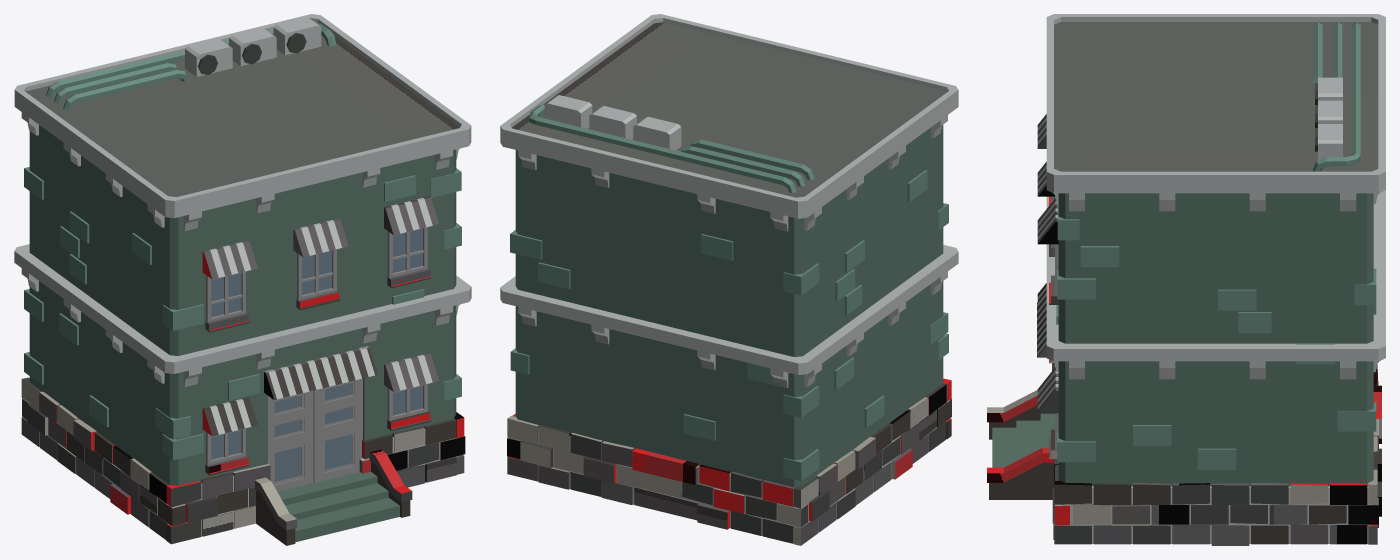
The model's file is quaternius-ultimate-textured-building-2-story-double-mat.glb.
3 views of the same model, side by side, from view 1: azimuth 30°, elevation 25°; view 2: azimuth 150°, elevation 25°; view 3: azimuth 270°, elevation 25° (orthographic). The views are drawn at different scales.
Parts seen in each view (by area): view 1: 2Story_Double_Mat; view 2: 2Story_Double_Mat; view 3: 2Story_Double_Mat.
Part boxes in pixels (box(x1,y1,x2,y2)): 2Story_Double_Mat: box(14, 14, 471, 545); 2Story_Double_Mat: box(500, 14, 958, 545); 2Story_Double_Mat: box(987, 14, 1385, 545).
Size of the model in its own units: 2.42 by 2.75 by 2.53.
Materials: 2 (2 with a texture image).
